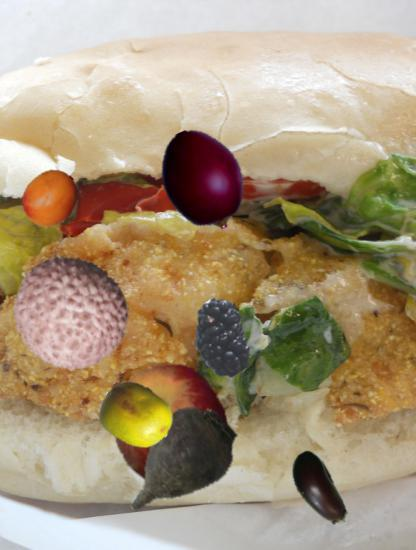Apricot: (21, 169, 81, 229)
Beetroot: (112, 396, 244, 528)
Eggplant: (276, 448, 361, 533)
Lychee: (10, 253, 131, 374)
Mulberry: (184, 299, 262, 377)
Nectarine: (107, 363, 231, 487)
Pomelo: (99, 379, 173, 453)
Tamarillo: (150, 127, 257, 234)
